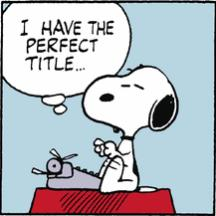snoopy: (81, 64, 180, 196)
